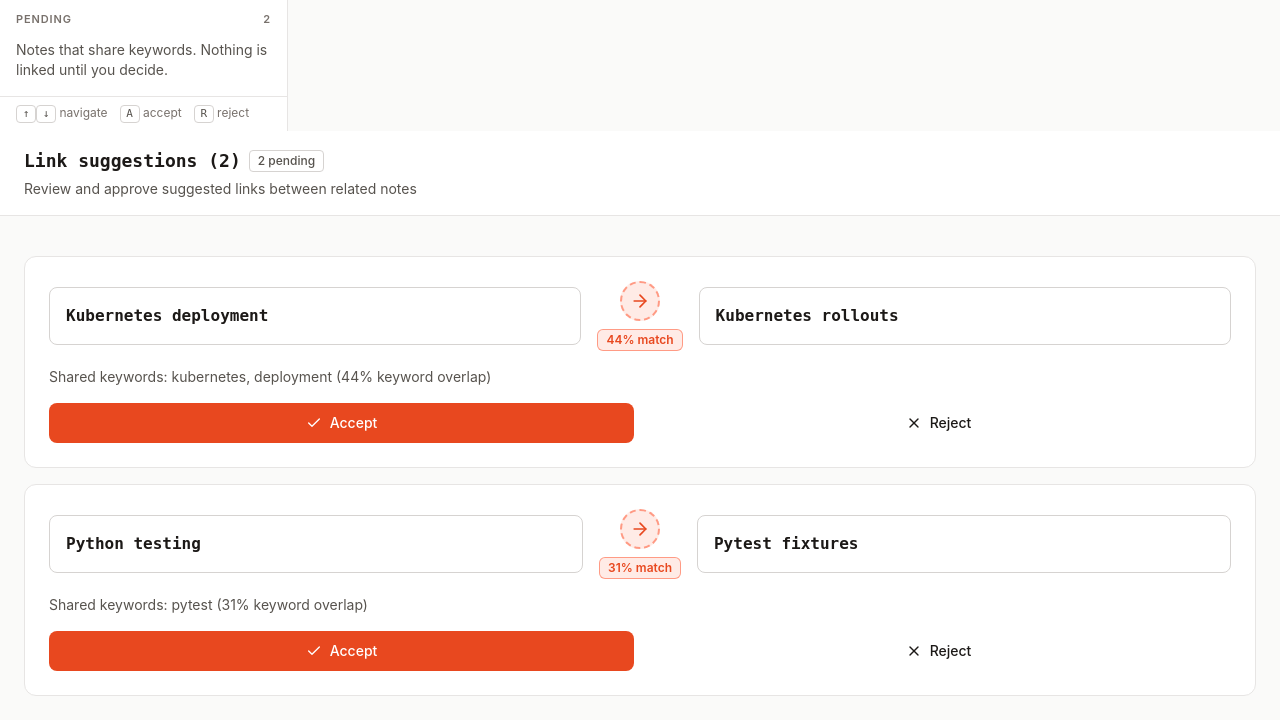
SuggestionsList › rejects a suggestion without touching the graph
(page scrolled)
Expected: the heading "Link suggestions (2)" is shown, x1=24 y1=147 x2=241 y2=175
Step 1. Click the button "Reject" below "Pytest fixtures" → {"x": 938, "y": 651}, box x1=646 y1=631 x2=1231 y2=671
(page scrolled)
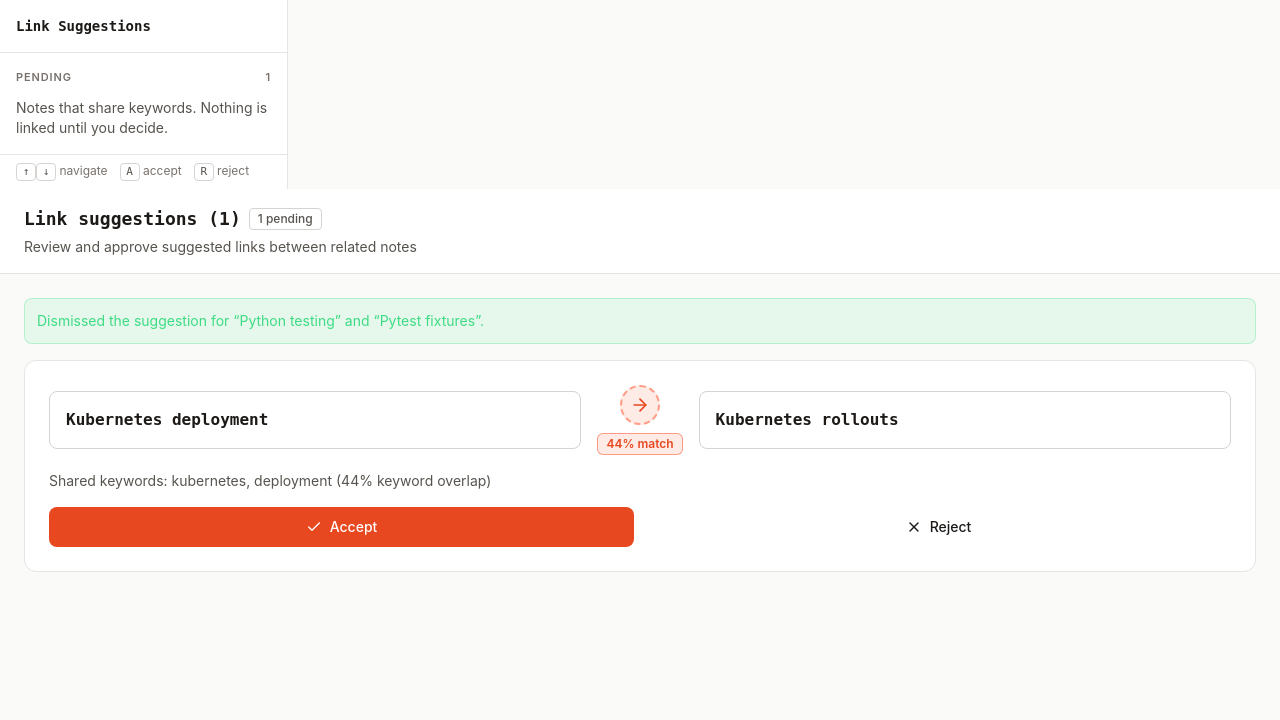
Now the text "Dismissed the suggestion for “Python testing” and “Pytest fixtures”." is shown, box x1=24 y1=298 x2=1256 y2=344
